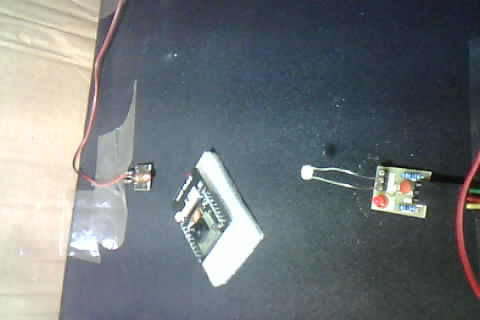esp32: (162, 157, 246, 283)
